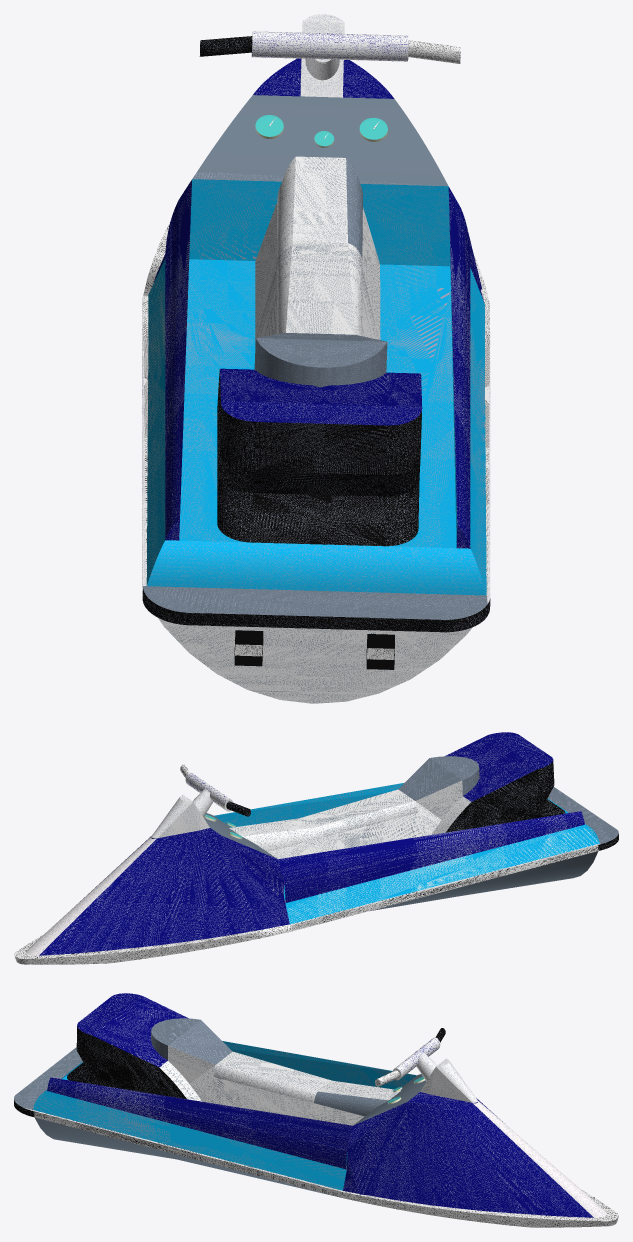
The model's file is jetski.dae.
The picture shows the model from 3 angles, top to bottom: view 1: azimuth 30°, elevation 25°; view 2: azimuth 150°, elevation 25°; view 3: azimuth 270°, elevation 25°; orthographic projection. The views are drawn at different scales.
Visible parts, largest first — view 1: SketchUp (×13); view 2: SketchUp (×13); view 3: SketchUp (×14).
Boxes of the visible parts, x1=… form: SketchUp (×13): x1=142, y1=14, x2=490, y2=703; SketchUp (×13): x1=14, y1=732, x2=618, y2=964; SketchUp (×14): x1=14, y1=993, x2=618, y2=1227.
Size of the model in its own units: 90.55 by 137 by 42.16.
